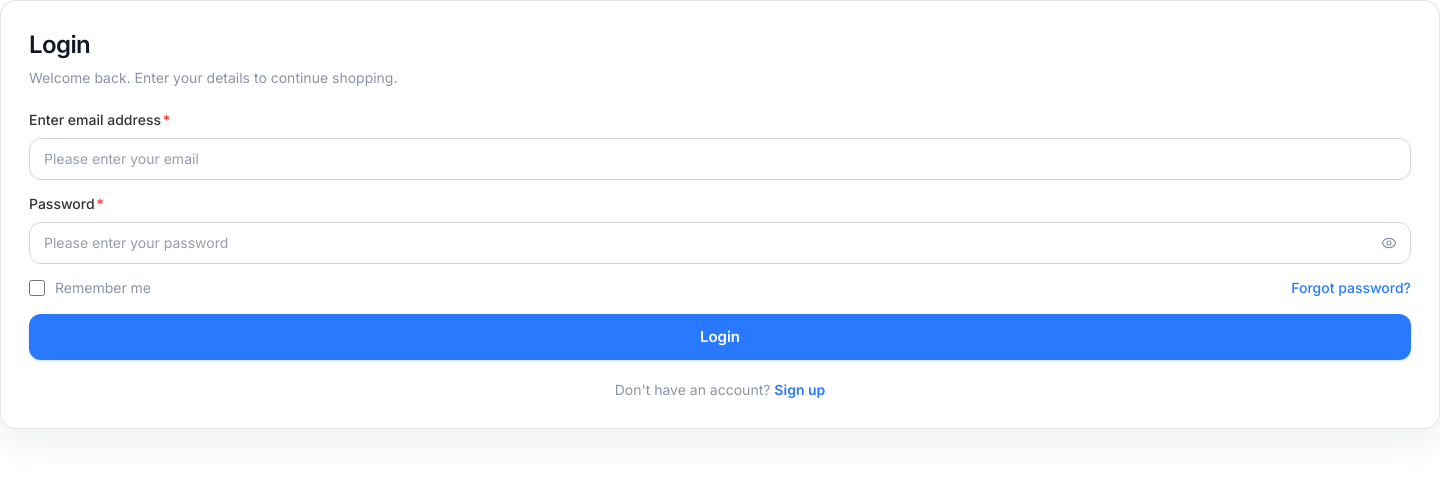
LoginForm › shows validation errors for empty submit
The width and height of the screenshot is (1440, 504).
What coordinates should you click on to do the following:
click the button "Login"
I would click on:
 (720, 337)
Its box is [29,314,1411,360].
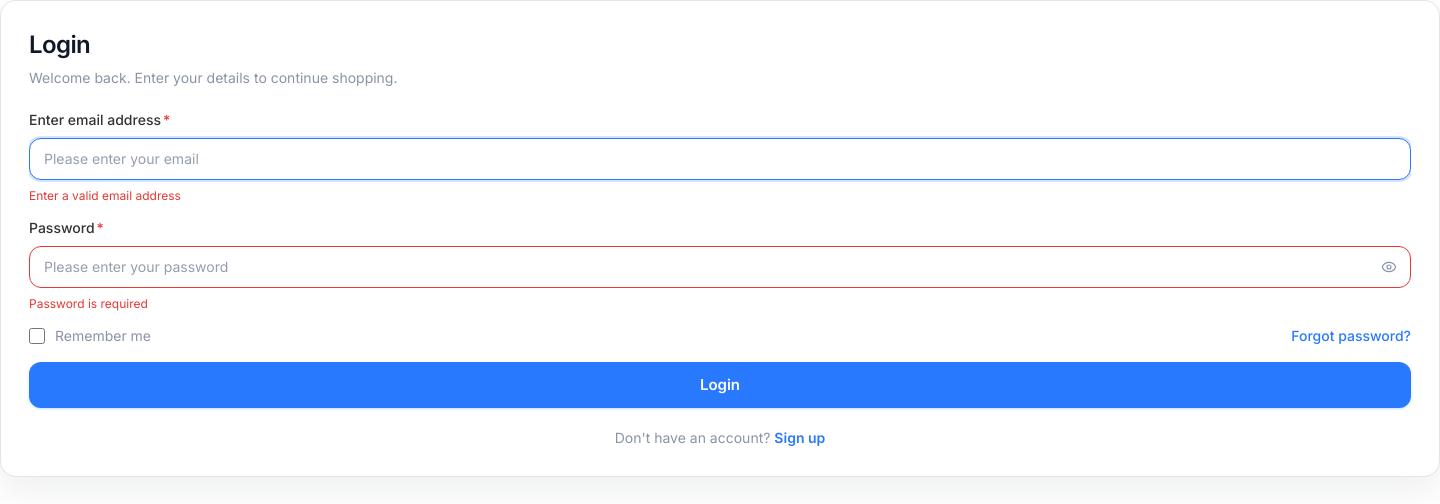
Now the text "Enter a valid email address" is shown, box [29,188,181,203]
Now the text "Password is required" is shown, box [29,296,148,311]
